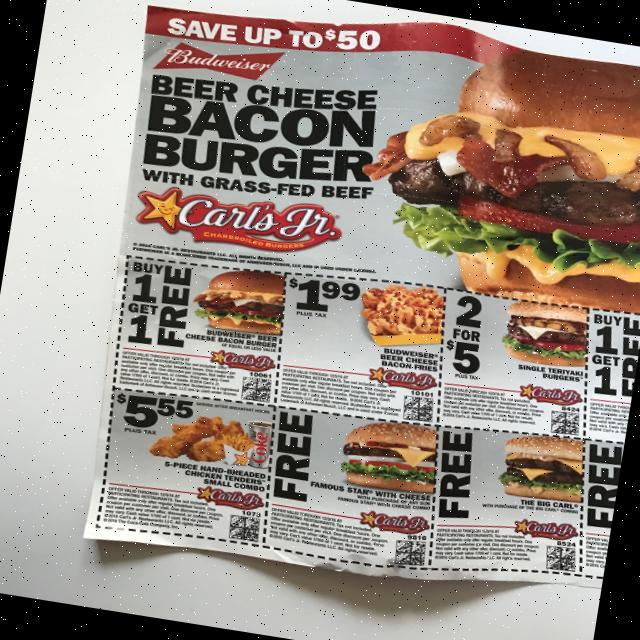paper: (65, 0, 640, 619)
